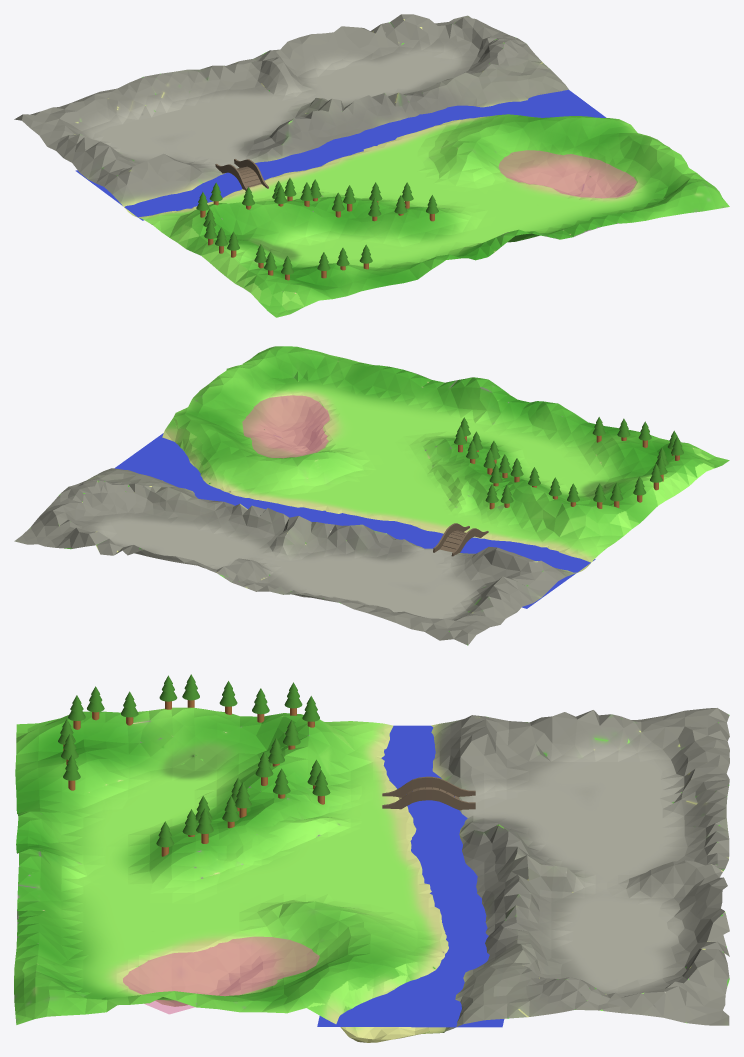
The model's file is Spawn_v1.glb.
The picture shows the model from 3 angles, top to bottom: view 1: azimuth 30°, elevation 25°; view 2: azimuth 150°, elevation 25°; view 3: azimuth 270°, elevation 25°; orthographic projection. The views are drawn at different scales.
Parts seen in each view (by area): view 1: Land, River, Healing Pool, Trees, Cube; view 2: Land, River, Healing Pool, Trees, Cube; view 3: Land, River, Healing Pool, Trees, Cube.
Boxes of the visible parts, x1=… form: Land: x1=14, y1=14, x2=729, y2=317; River: x1=75, y1=89, x2=606, y2=220; Healing Pool: x1=498, y1=150, x2=636, y2=198; Trees: x1=196, y1=178, x2=438, y2=280; Cube: x1=215, y1=159, x2=268, y2=190; Land: x1=14, y1=346, x2=729, y2=645; River: x1=115, y1=433, x2=595, y2=608; Healing Pool: x1=242, y1=395, x2=329, y2=458; Trees: x1=454, y1=417, x2=683, y2=509; Cube: x1=433, y1=523, x2=488, y2=556; Land: x1=14, y1=707, x2=729, y2=1042; River: x1=317, y1=725, x2=504, y2=1027; Healing Pool: x1=123, y1=936, x2=319, y2=1014; Trees: x1=58, y1=674, x2=330, y2=856; Cube: x1=382, y1=776, x2=475, y2=810.
Size of the model in its own units: 101 by 13.54 by 100.
6 materials, 1 textured.
